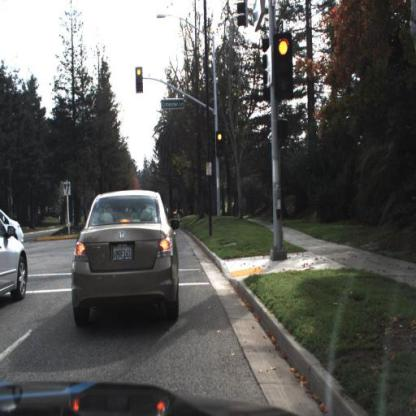car: (73, 187, 179, 329), (1, 208, 33, 305), (1, 203, 26, 243), (4, 208, 27, 243)
trafficLight-Red: (273, 32, 296, 102), (216, 131, 226, 161), (136, 68, 145, 95)
